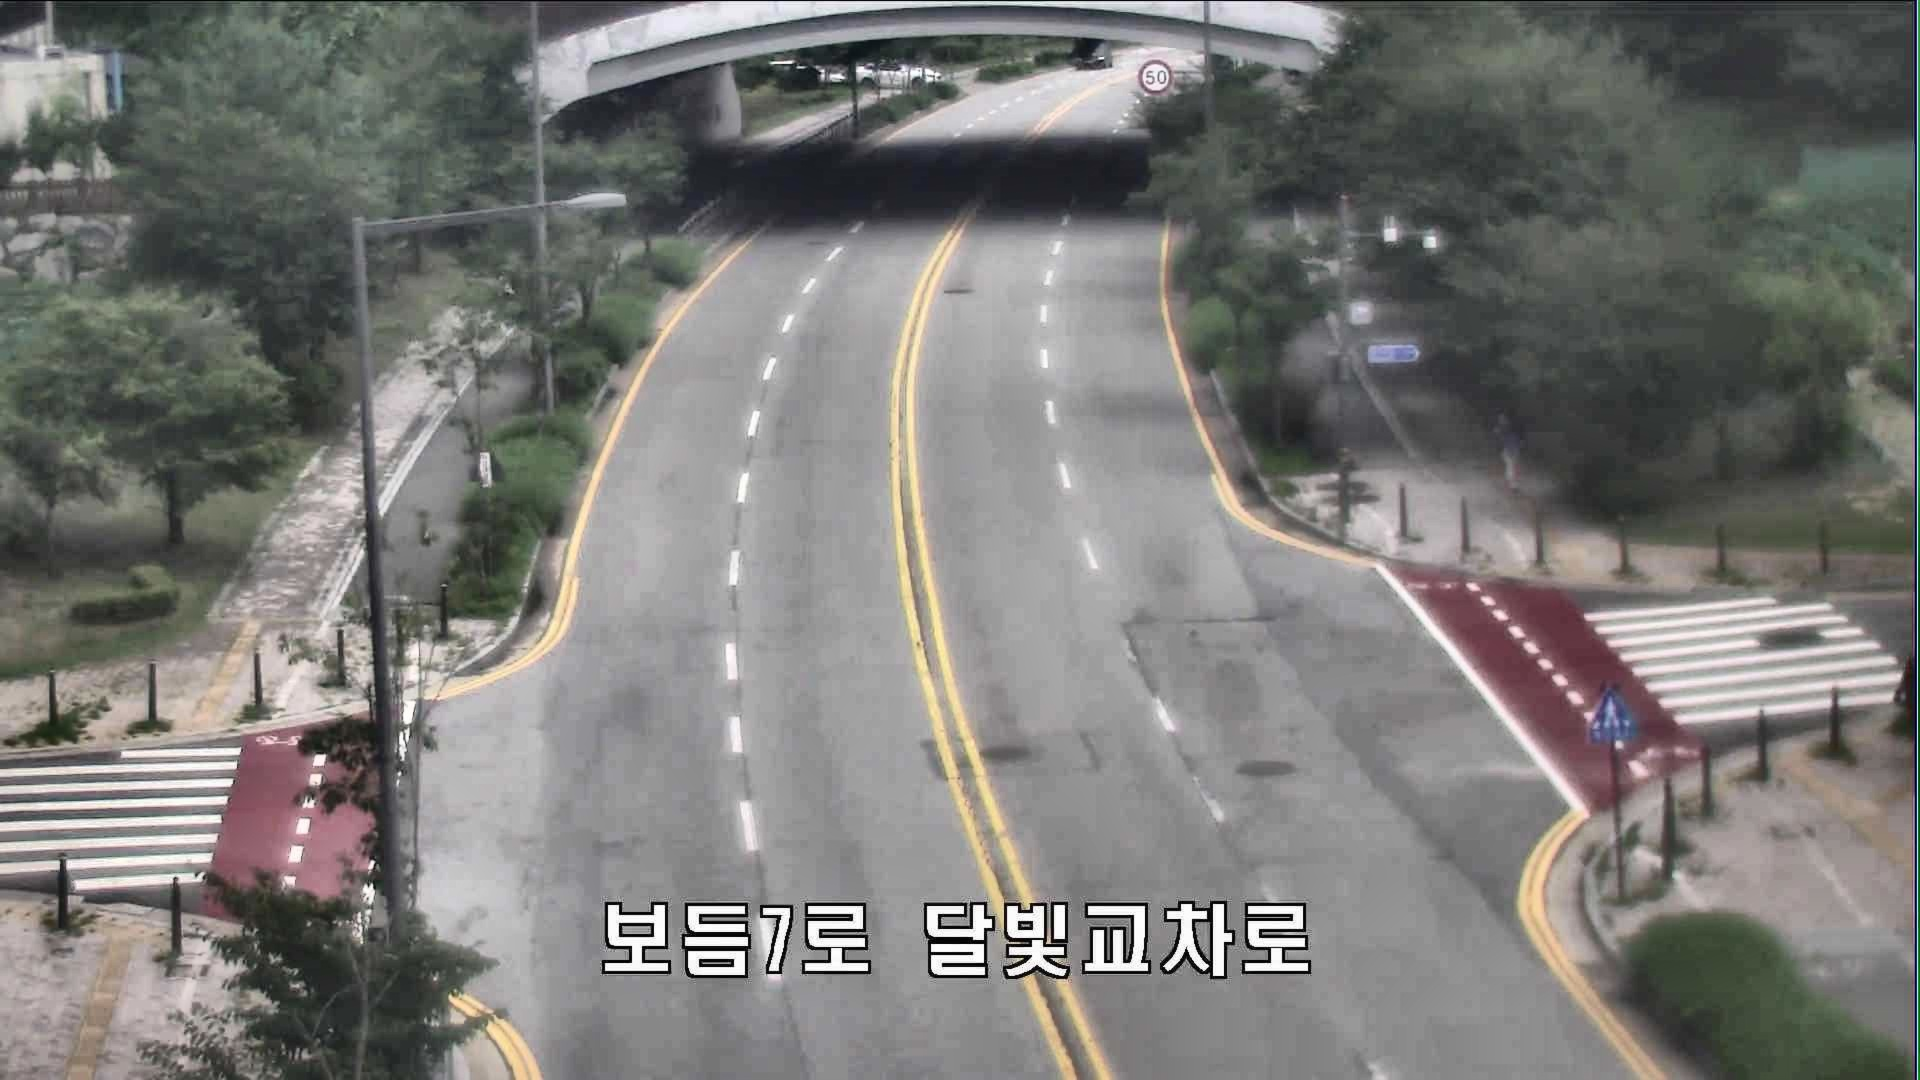sidewalk: (1498, 405, 1526, 492)
